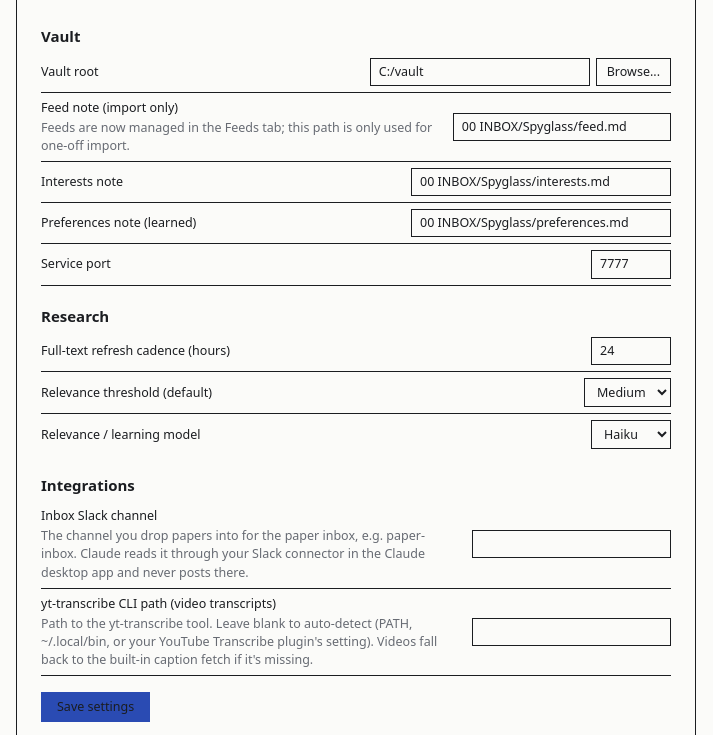
Test: SettingsTab › saves edited research settings through PATCH /api/settings
(page scrolled)
Replace the text in the field labelled "Full-text refresh cadence (hours)" with "6": (631, 351) [591,337,671,365]
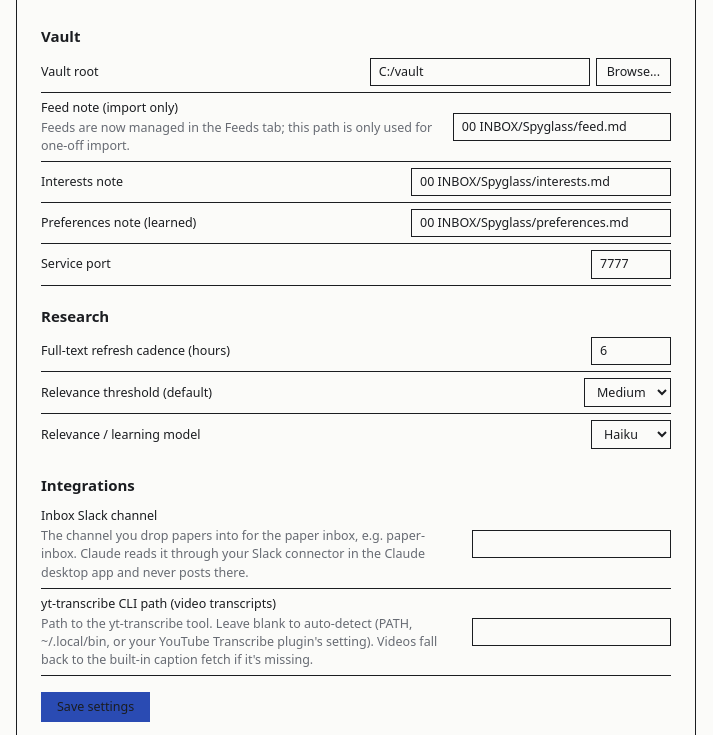
Select "Sonnet" in the dropdown labelled "Relevance / learning model": (631, 435) [591,420,671,449]
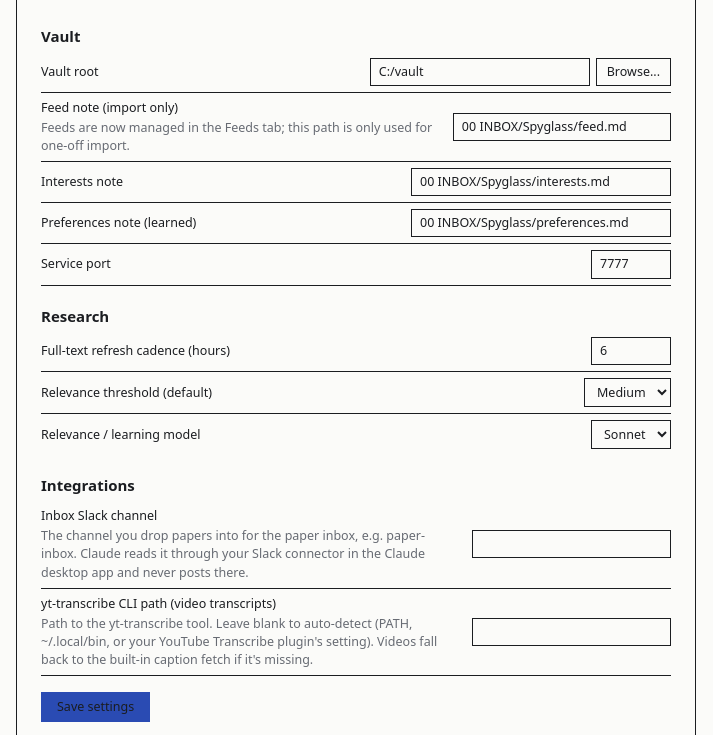
Click the button "Save settings": (96, 707) [41,692,150,722]
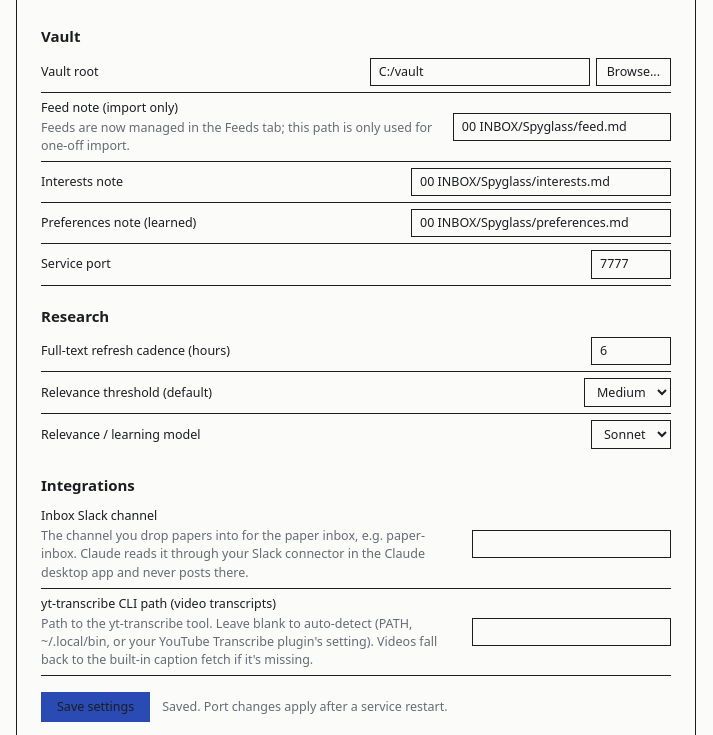
Expected: the text "Saved. Port changes apply after a service restart." is shown, [162,698,448,716]
